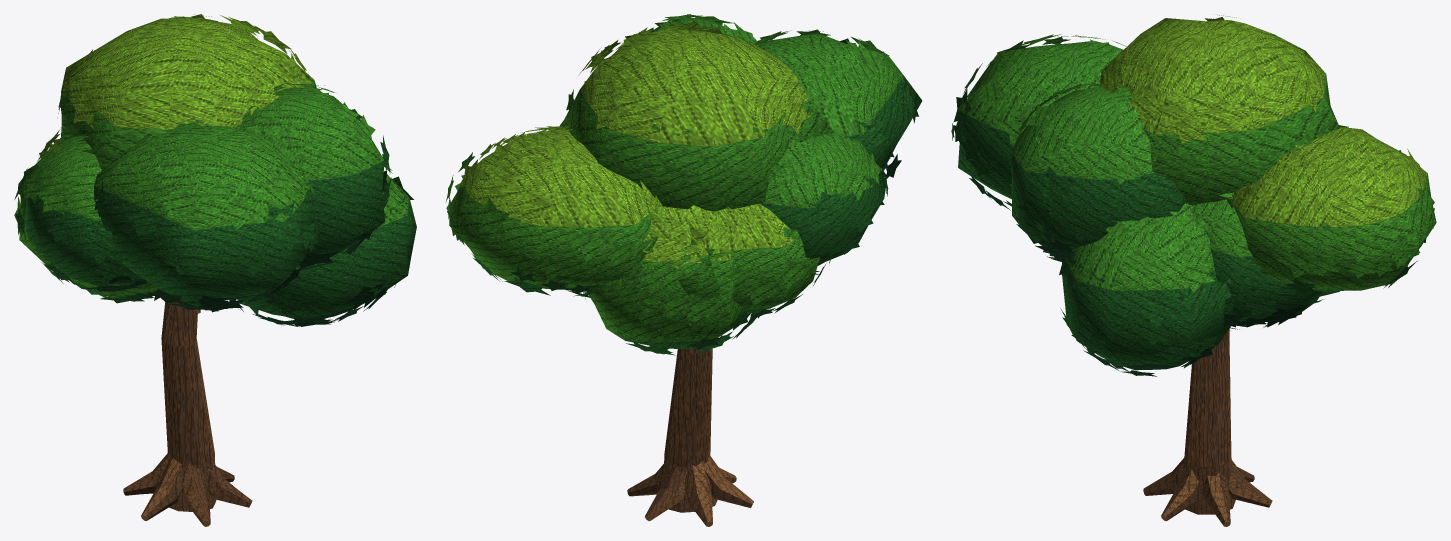
The model's file is SM_Woodland_Broadleaf_B.fbx.
The picture shows the model from 3 angles, left to right: view 1: azimuth 30°, elevation 25°; view 2: azimuth 150°, elevation 25°; view 3: azimuth 270°, elevation 25°; orthographic projection.
Visible parts, largest first — view 1: SM_Woodland_Broadleaf_B; view 2: SM_Woodland_Broadleaf_B; view 3: SM_Woodland_Broadleaf_B.
Part boxes in pixels (bbox=[...]): SM_Woodland_Broadleaf_B: bbox=[14, 14, 416, 526]; SM_Woodland_Broadleaf_B: bbox=[445, 14, 922, 526]; SM_Woodland_Broadleaf_B: bbox=[951, 14, 1436, 526].
Bounding box in the file's own units: 424 × 489 × 526.
Materials: 1 (1 with a texture image).
